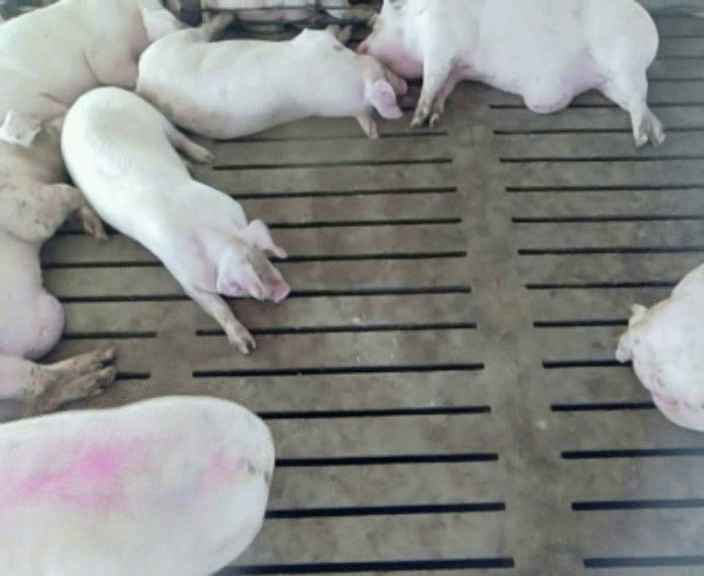pig: (62, 87, 289, 352), (0, 396, 273, 573), (358, 2, 664, 145), (0, 110, 114, 420), (137, 13, 406, 138), (0, 2, 180, 124), (615, 263, 703, 431)
